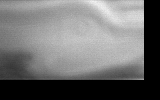cell: (24, 53, 61, 78), (69, 20, 92, 39), (44, 53, 66, 72), (76, 20, 95, 37)
